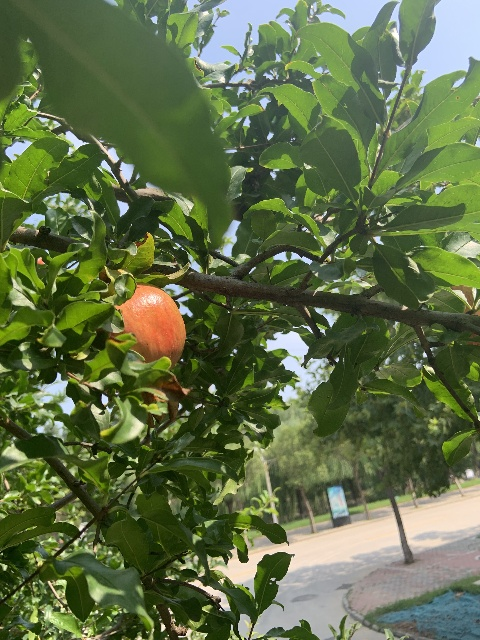ripe: (107, 283, 185, 427)
